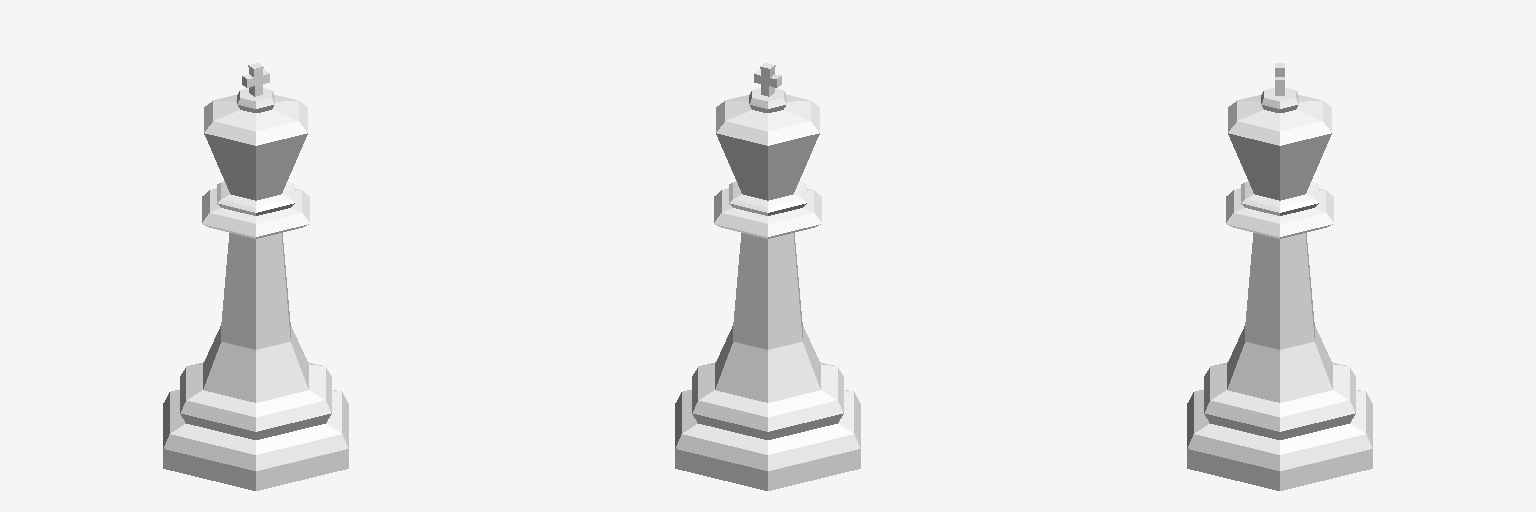
File: queen_white.obj
The picture shows the model from 3 angles: view 1: azimuth 30°, elevation 25°; view 2: azimuth 150°, elevation 25°; view 3: azimuth 270°, elevation 25°; orthographic projection.
Parts seen in each view (by area): view 1: King.001; view 2: King.001; view 3: King.001.
Part boxes in pixels (x1,y1,x2,y2): King.001: (163, 63, 348, 490); King.001: (675, 63, 860, 490); King.001: (1187, 63, 1372, 490).
Bounding box in the file's own units: 0.8763 × 1.72 × 0.7589.